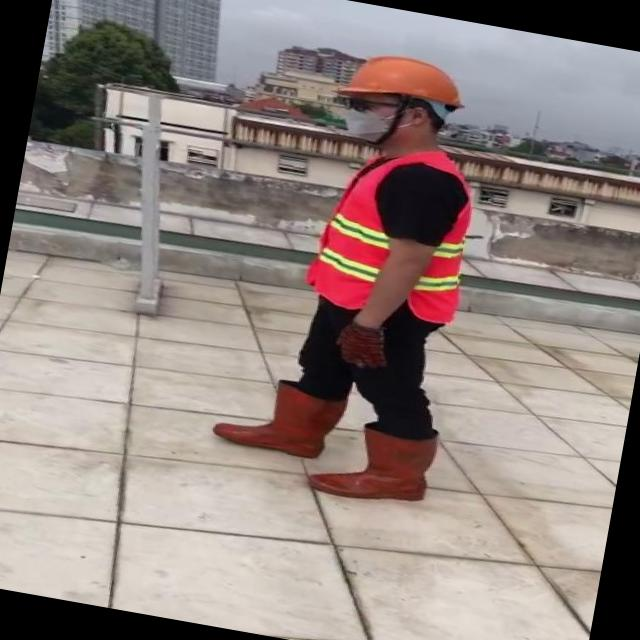boots: (207, 368, 346, 462), (311, 421, 438, 512)
helmet: (335, 46, 477, 115)
vest: (306, 140, 482, 326)
